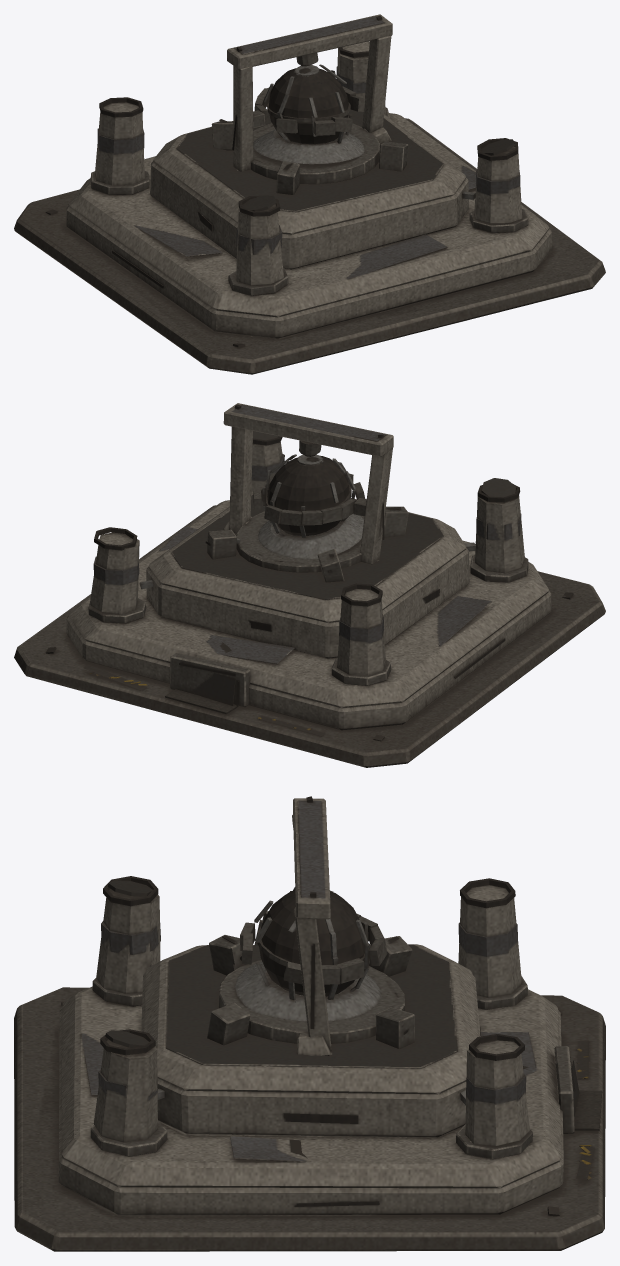
The model's file is ord_fusion_wreck.fbx.
3 renders of one model, top to bottom at view 1: azimuth 30°, elevation 25°; view 2: azimuth 150°, elevation 25°; view 3: azimuth 270°, elevation 25°, orthographic. The views are drawn at different scales.
Visible parts, largest first — view 1: base_bar, core_bar; view 2: base_bar, core_bar; view 3: base_bar, core_bar.
Boxes of the visible parts, x1,y1,x2,y2 form: base_bar: (14,14,605,374); core_bar: (267,65,350,144); base_bar: (14,403,605,767); core_bar: (266,454,351,536); base_bar: (14,796,605,1251); core_bar: (257,890,365,996).
Size of the model in its own units: 3177 by 1885 by 3152.
Materials: 2 (2 with a texture image).
